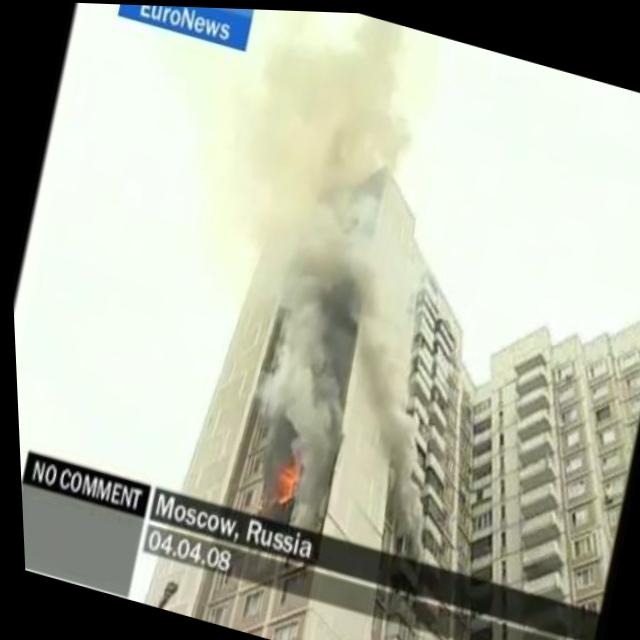fire: (264, 451, 303, 507)
